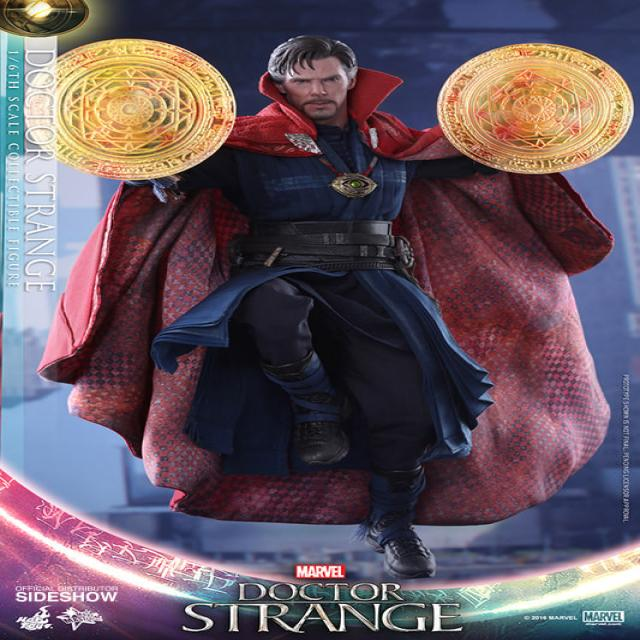doctor_strange: (99, 28, 521, 505)
